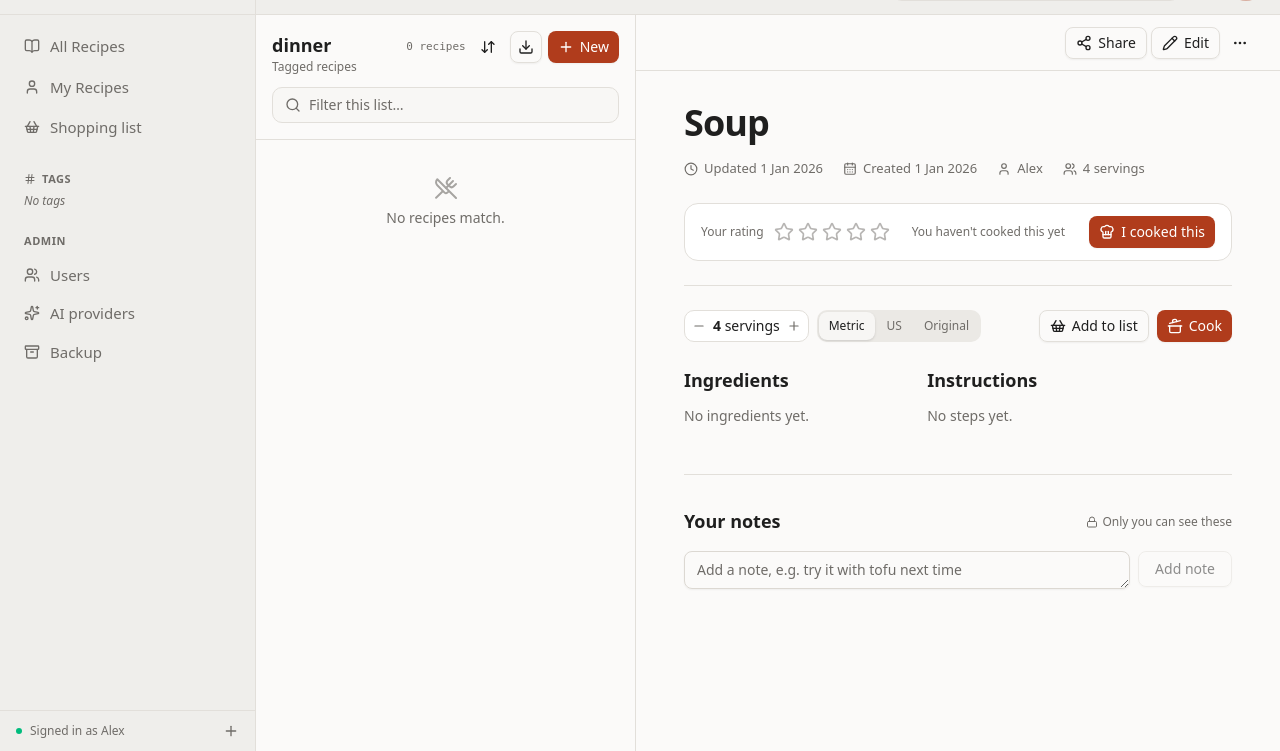
Test: history › replaces a deleted recipe's page so Back can't return to it
This screenshot has width=1280, height=751.
Click the button named "More actions": (1240,42) [1224, 26, 1256, 58]
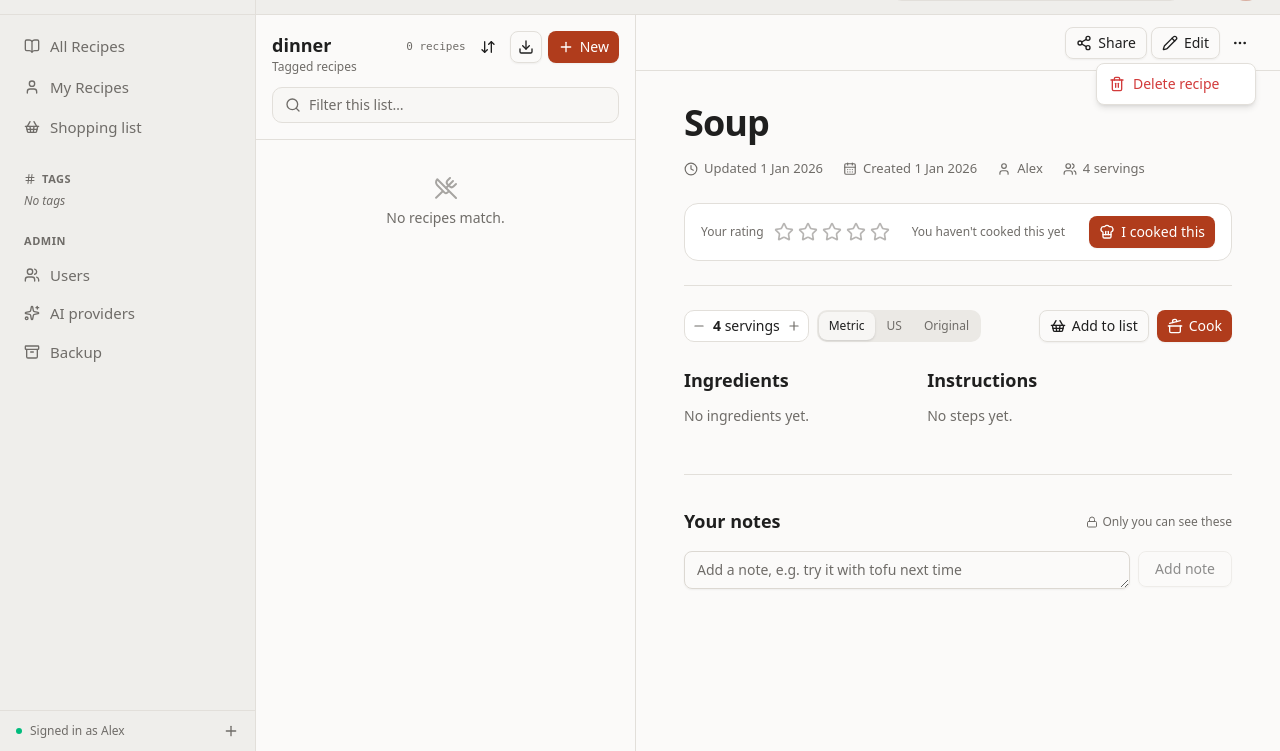
Click the menu item "Delete recipe": (1164,84) [1109, 74, 1220, 93]
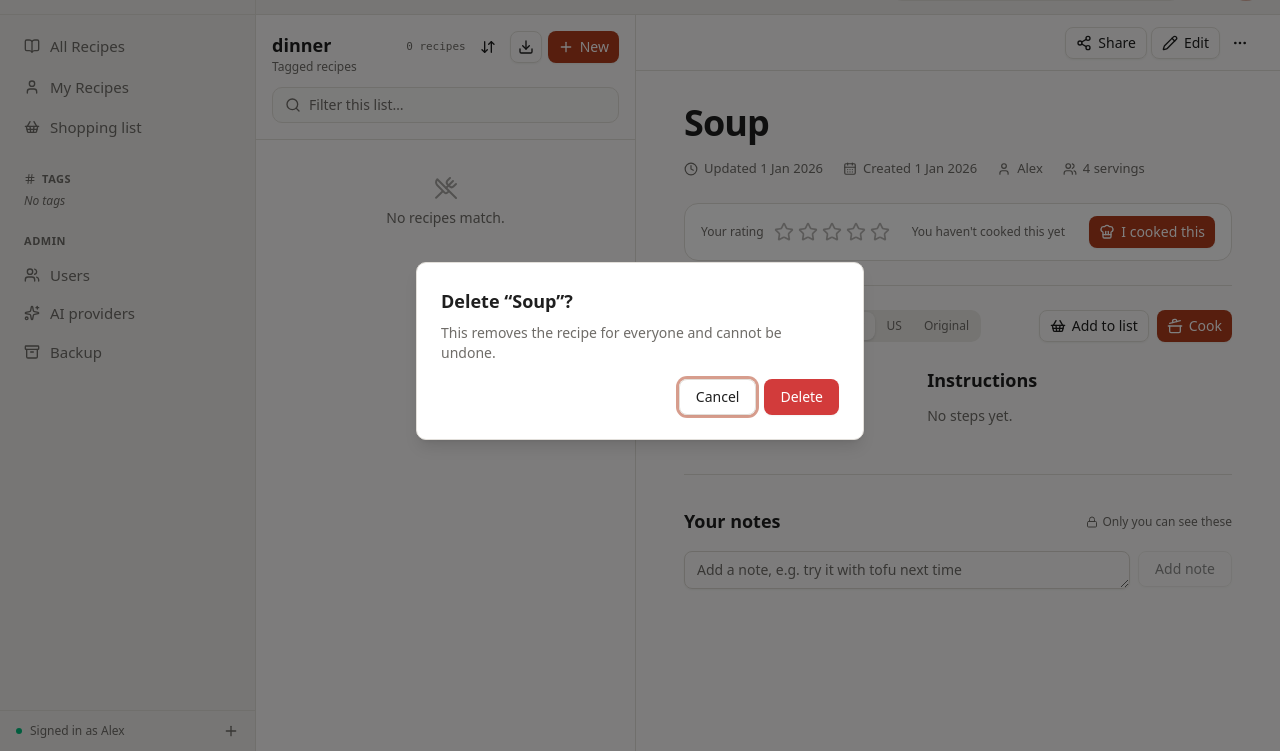
Click the button "Delete": (802,397) [764, 379, 839, 415]
(page scrolled)
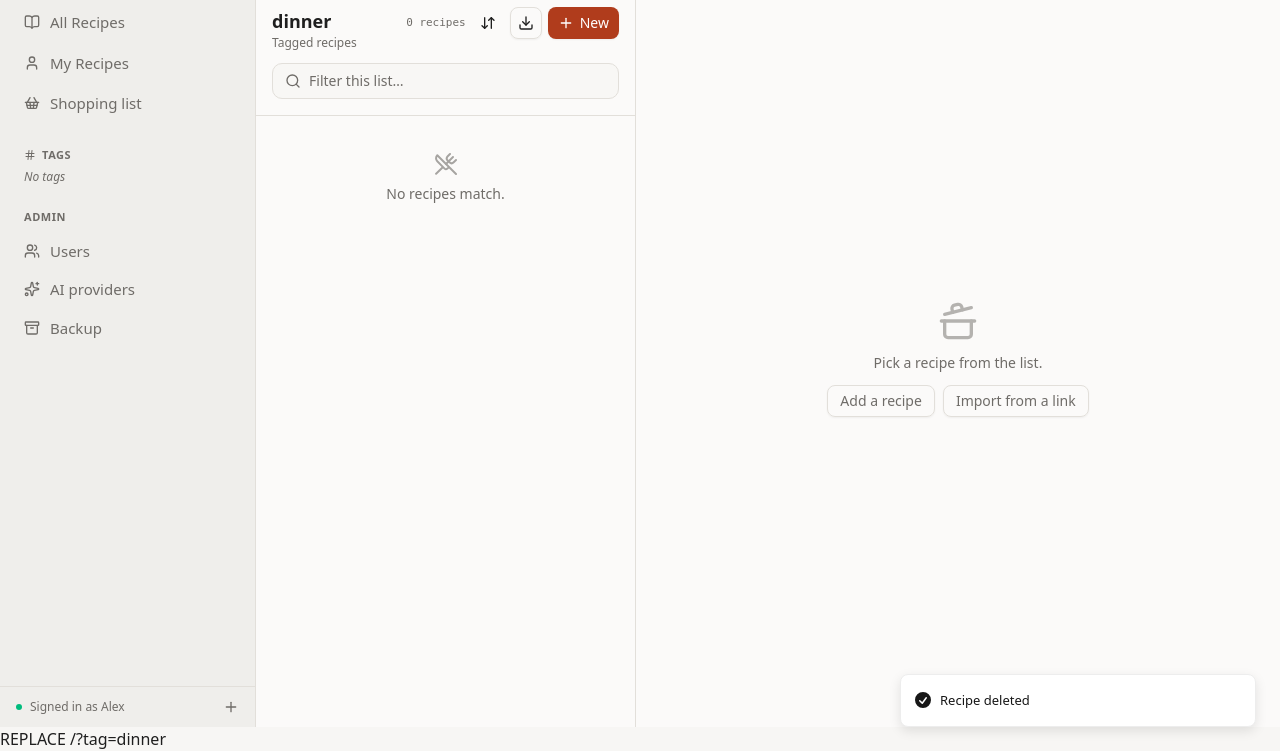
Check: the text with test id "nav" reads "REPLACE /?tag=dinner", box [0, 728, 166, 750]
